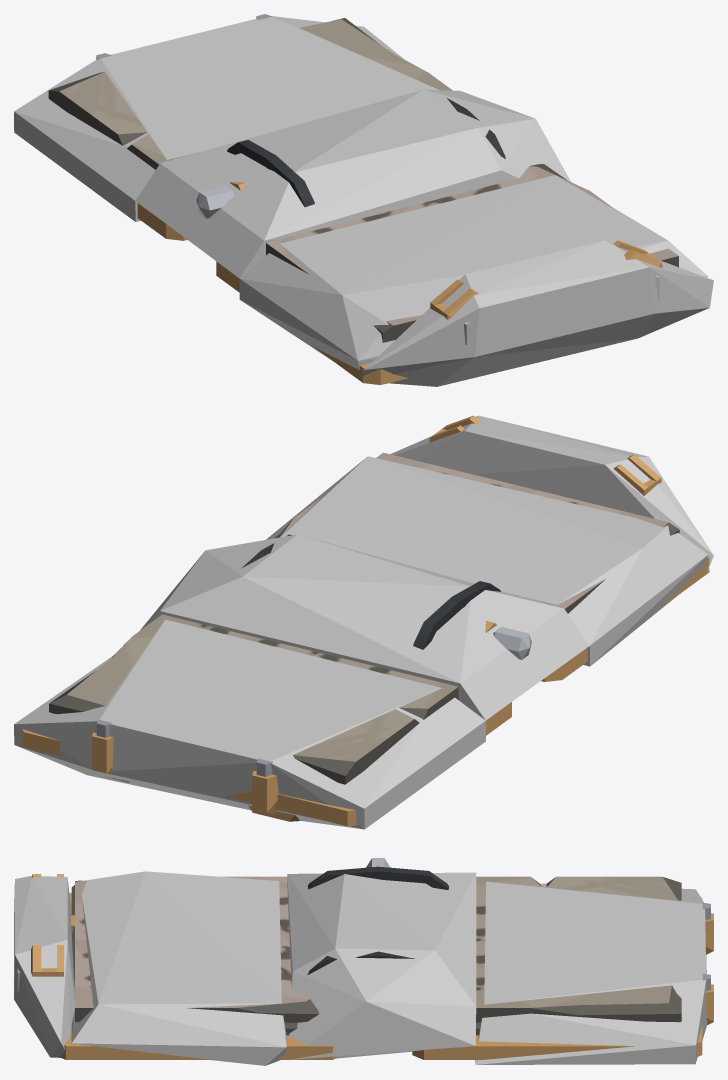
Rendered from SM_Item_Spellbook_Open_03.fbx.
The picture shows the model from 3 angles, top to bottom: view 1: azimuth 30°, elevation 25°; view 2: azimuth 150°, elevation 25°; view 3: azimuth 270°, elevation 25°; orthographic projection. The views are drawn at different scales.
Parts seen in each view (by area): view 1: SM_Item_Spellbook_Open_03_ConvexHulls, SM_Item_Spellbook_Open_03; view 2: SM_Item_Spellbook_Open_03_ConvexHulls, SM_Item_Spellbook_Open_03; view 3: SM_Item_Spellbook_Open_03_ConvexHulls, SM_Item_Spellbook_Open_03.
Boxes of the visible parts, bbox=[...] form: SM_Item_Spellbook_Open_03_ConvexHulls: bbox=[14, 16, 713, 386]; SM_Item_Spellbook_Open_03: bbox=[48, 14, 678, 384]; SM_Item_Spellbook_Open_03_ConvexHulls: bbox=[14, 415, 713, 829]; SM_Item_Spellbook_Open_03: bbox=[22, 415, 709, 826]; SM_Item_Spellbook_Open_03_ConvexHulls: bbox=[14, 871, 706, 1065]; SM_Item_Spellbook_Open_03: bbox=[17, 858, 713, 1059].
Bounding box in the file's own units: 45.16 × 86.03 × 15.09.
Materials: 2 (1 with a texture image).
